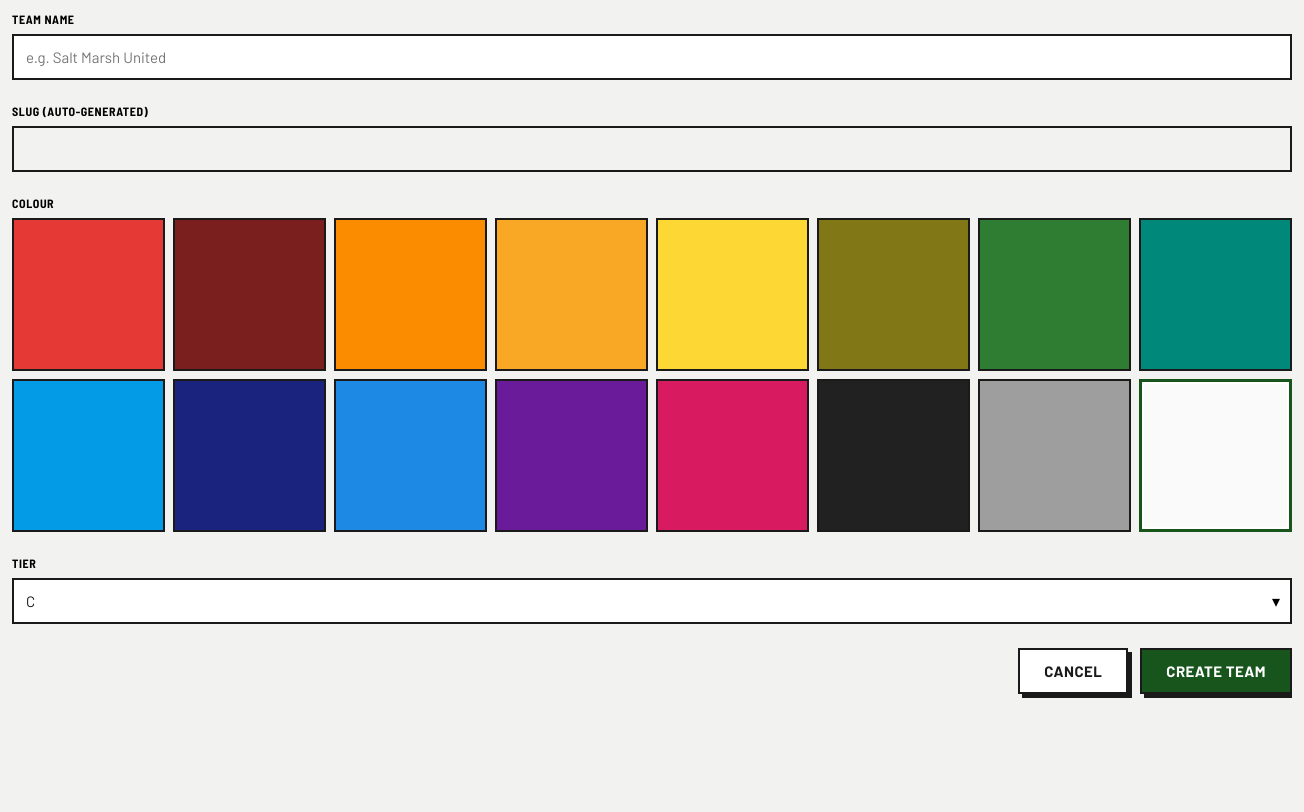
TeamForm › auto-fills the slug as the user types a name
Type "Salt Marsh United" into the field labelled "Team name" at (652, 57), box [12, 34, 1292, 80]
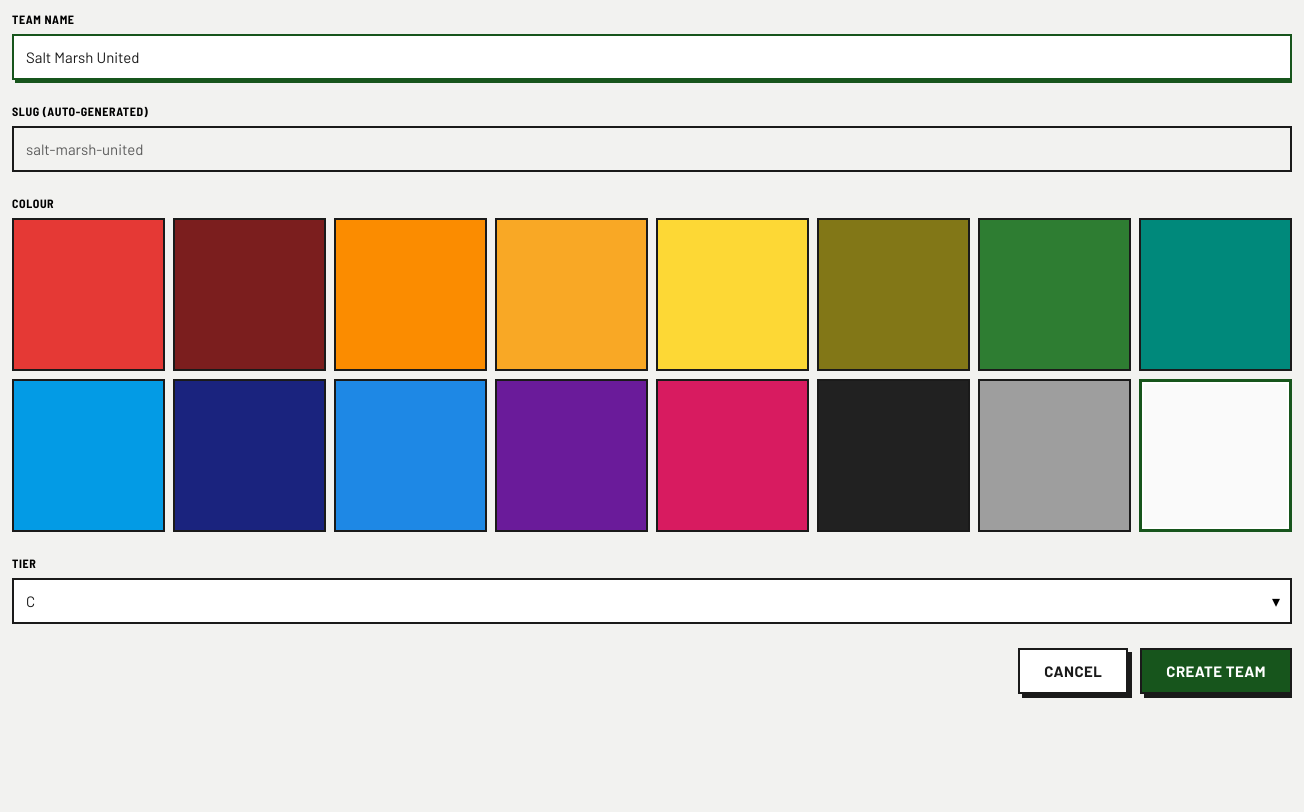
Check: the field labelled "Slug (auto-generated)" holds "salt-marsh-united", box [12, 126, 1292, 172]
